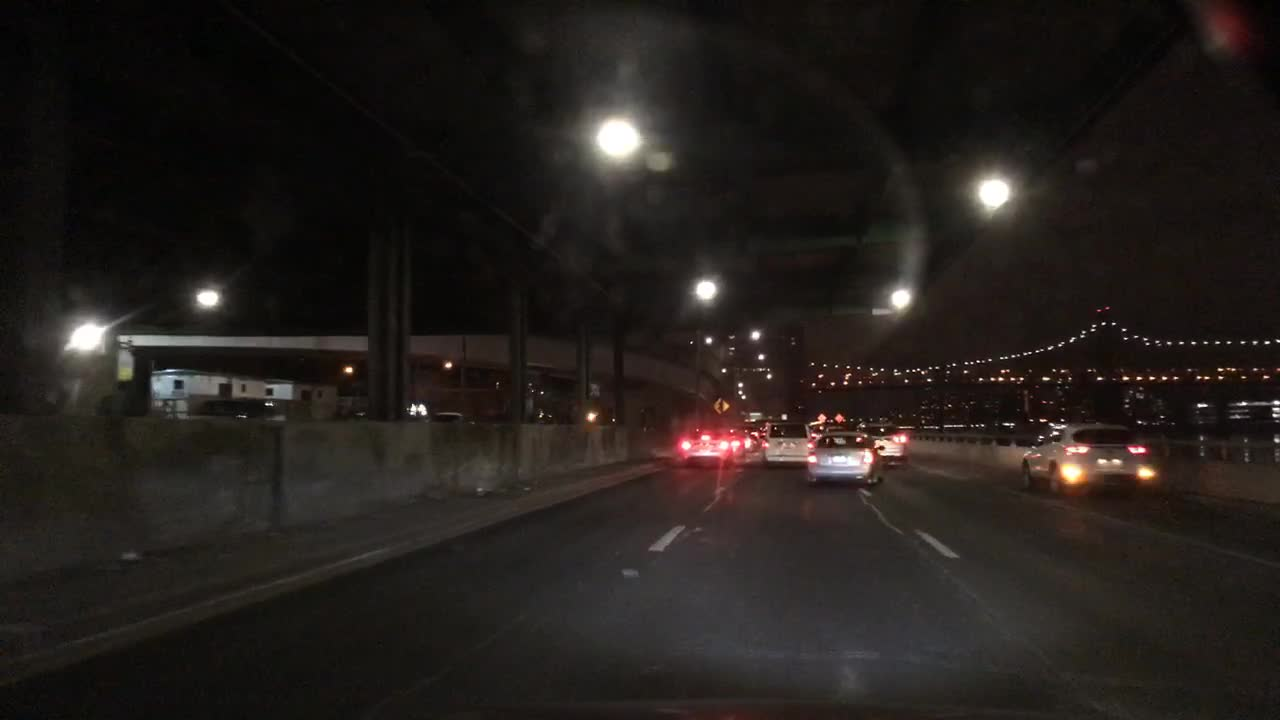car: (1016, 420, 1171, 500), (806, 429, 889, 487), (182, 395, 318, 421), (860, 419, 913, 469), (761, 419, 812, 465), (673, 427, 732, 466), (806, 420, 853, 440), (724, 426, 749, 459), (743, 426, 763, 452), (429, 409, 467, 421)
traffic sign: (713, 398, 732, 415), (834, 413, 845, 422), (816, 414, 828, 420)
